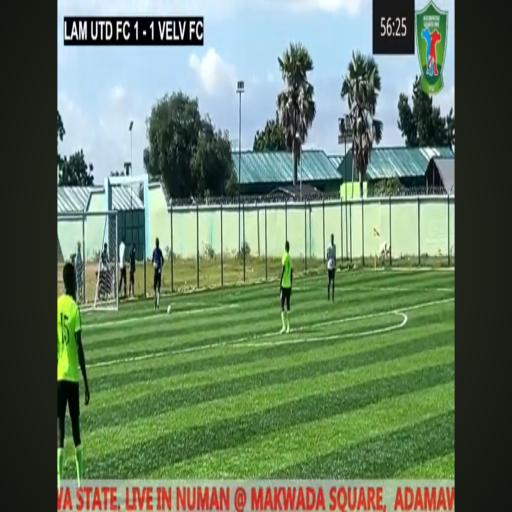ball: (166, 300, 172, 319)
keeper1: (151, 233, 167, 313)
team1: (327, 224, 336, 308)
team2: (57, 228, 91, 486), (274, 222, 298, 347)
